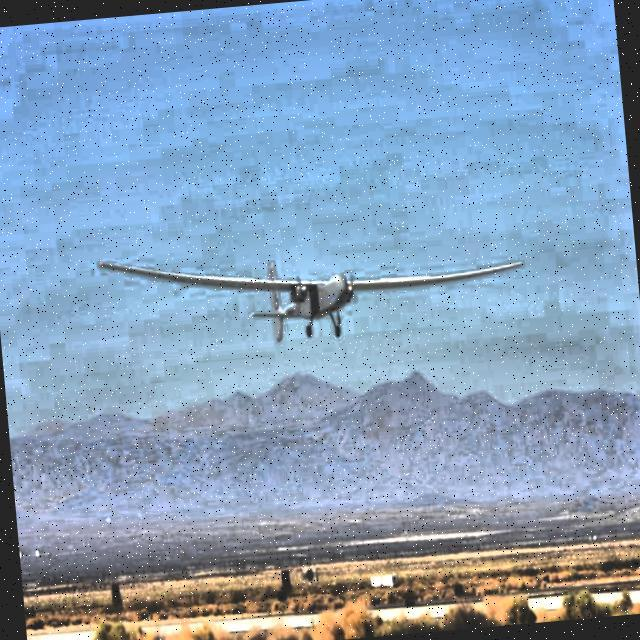iha: (91, 216, 533, 360)
